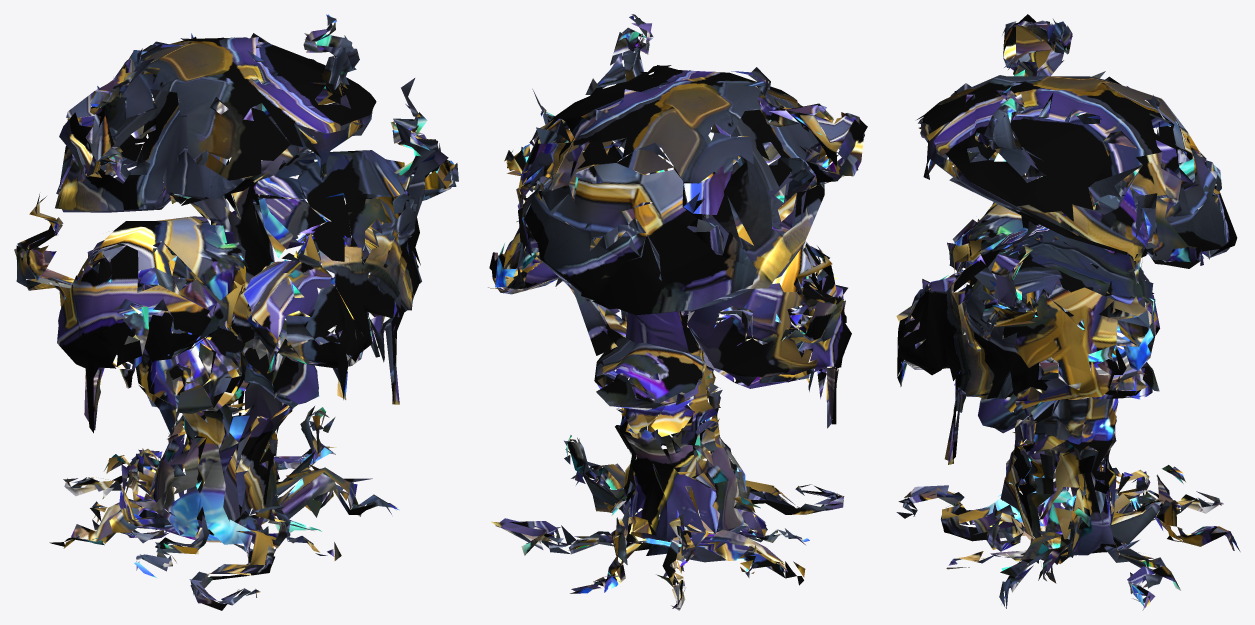
File: tower_sporecloud_3d_LOD2.fbx
The picture shows the model from 3 angles, left to right: view 1: azimuth 30°, elevation 25°; view 2: azimuth 150°, elevation 25°; view 3: azimuth 270°, elevation 25°; orthographic projection. The views are drawn at different scales.
Parts seen in each view (by area): view 1: Mesh1.0; view 2: Mesh1.0; view 3: Mesh1.0.
Boxes of the visible parts, x1,y1,x2,y2 form: Mesh1.0: (14,14,458,610); Mesh1.0: (488,14,867,610); Mesh1.0: (896,14,1240,610).
Size of the model in its own units: 99.73 by 128 by 79.12.
